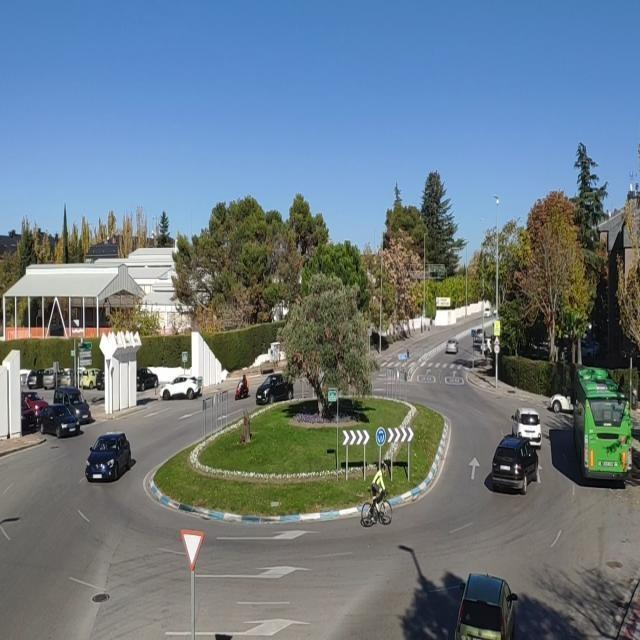Car: (449, 558, 530, 640), (486, 439, 544, 517), (80, 424, 134, 502), (252, 368, 302, 412), (497, 406, 551, 443), (154, 372, 208, 406), (50, 387, 91, 427), (432, 331, 471, 369), (40, 406, 81, 439)
Cycle: (346, 453, 406, 528), (222, 358, 254, 400)
